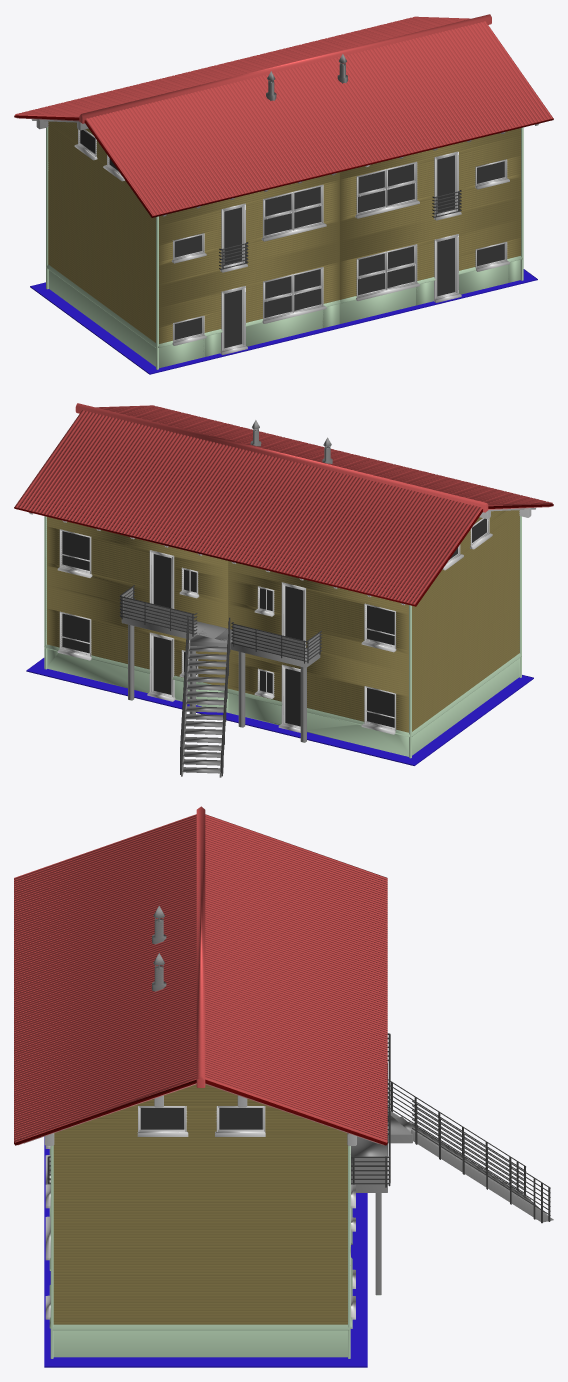
The model's file is HouseDesign.obj.
3 renders of one model, top to bottom at view 1: azimuth 30°, elevation 25°; view 2: azimuth 150°, elevation 25°; view 3: azimuth 270°, elevation 25°, orthographic. The views are drawn at different scales.
Parts seen in each view (by area): view 1: Plane; view 2: Plane; view 3: Plane.
Boxes of the visible parts, x1=… form: Plane: x1=14, y1=14, x2=553, y2=374; Plane: x1=14, y1=403, x2=553, y2=777; Plane: x1=14, y1=806, x2=553, y2=1367.
Size of the model in its own units: 517 by 280 by 436.
